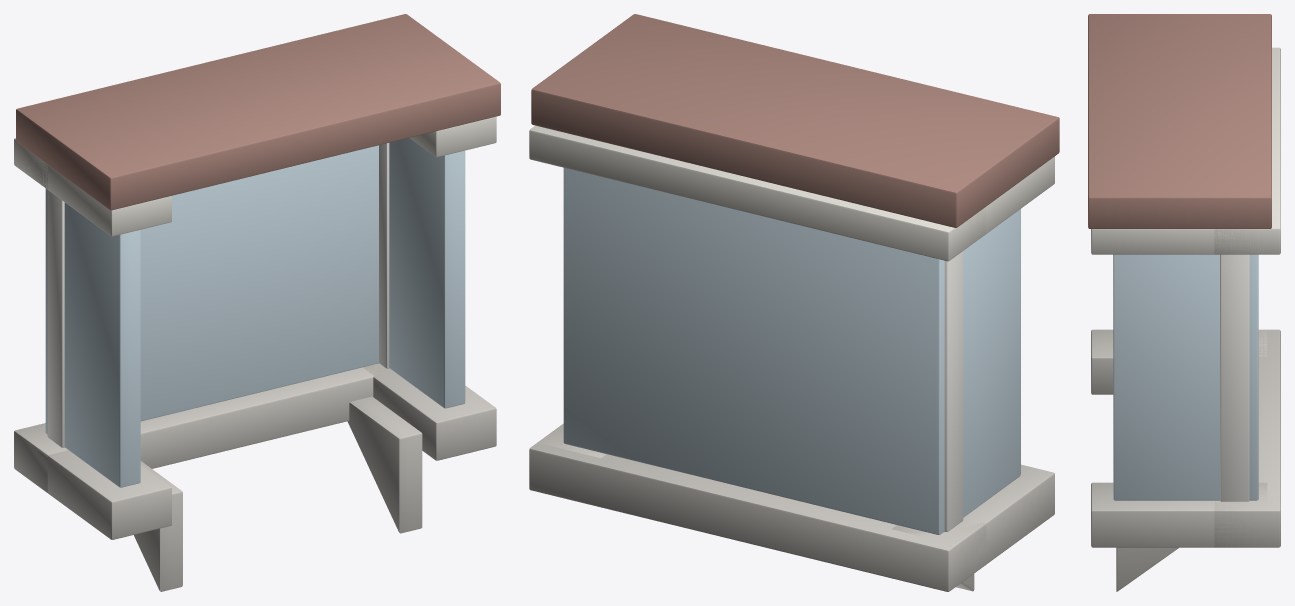
The model's file is th34_erker.glb.
The picture shows the model from 3 angles, left to right: view 1: azimuth 30°, elevation 25°; view 2: azimuth 150°, elevation 25°; view 3: azimuth 270°, elevation 25°; orthographic projection. The views are drawn at different scales.
Parts seen in each view (by area): view 1: Cube.001, Cube.011, Cube.004, Cube.007, Cube, Cube.003, Keil.001, Cube.006, Cube.009, Cube.005, Keil, Cube.010 (+2 smaller); view 2: Cube.001, Cube.011, Cube, Cube.002, Cube.004, Cube.003, Cube.009, Cube.005; view 3: Cube.011, Cube.007, Cube.006, Cube.010, Cube, Cube.008, Cube.002, Cube.001, Cube.003, Keil.001.
Part boxes in pixels (<box>): Cube.001: <box>45,145,378,434</box>; Cube.011: <box>16,14,500,210</box>; Cube.004: <box>64,202,140,487</box>; Cube.007: <box>389,138,465,408</box>; Cube: <box>14,364,389,492</box>; Cube.003: <box>20,430,171,539</box>; Keil.001: <box>347,396,422,533</box>; Cube.006: <box>363,363,496,460</box>; Cube.009: <box>47,190,64,447</box>; Cube.005: <box>20,153,171,236</box>; Keil: <box>134,461,182,591</box>; Cube.010: <box>379,143,389,368</box>; Cube.001: <box>563,168,944,534</box>; Cube.011: <box>531,14,1059,227</box>; Cube: <box>529,424,986,591</box>; Cube.002: <box>529,125,986,261</box>; Cube.004: <box>963,209,1020,517</box>; Cube.003: <box>892,464,1054,579</box>; Cube.009: <box>944,251,963,531</box>; Cube.005: <box>956,156,1054,255</box>; Cube.011: <box>1088,14,1271,228</box>; Cube.007: <box>1113,254,1219,500</box>; Cube.006: <box>1091,482,1267,547</box>; Cube.010: <box>1220,254,1249,501</box>; Cube: <box>1214,329,1280,547</box>; Cube.008: <box>1091,229,1266,254</box>; Cube.002: <box>1214,47,1280,254</box>; Cube.001: <box>1249,254,1258,500</box>; Cube.003: <box>1091,329,1267,394</box>; Keil.001: <box>1116,547,1178,591</box>.
Size of the model in its own units: 2.94 by 3.17 by 1.3.
